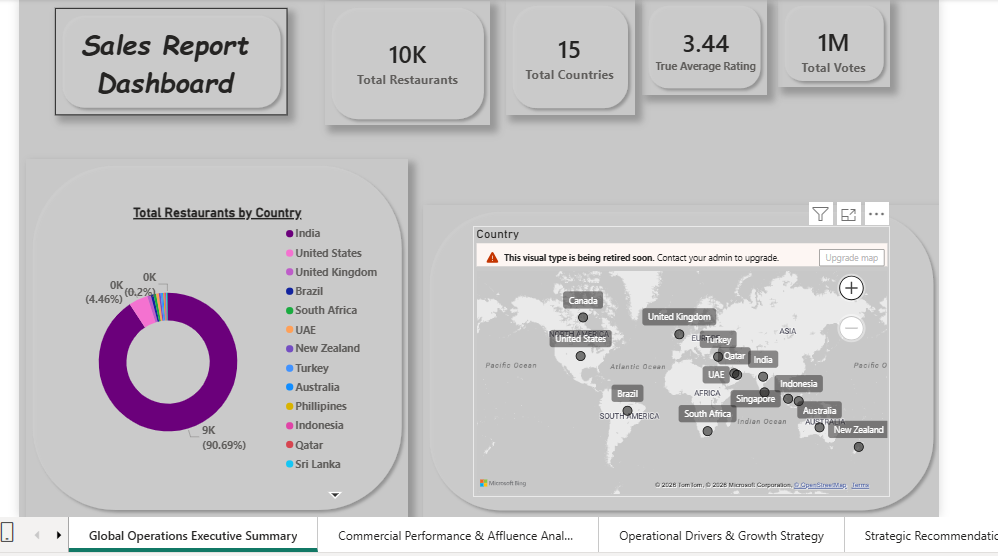

What the dashboard file says about the page in this screenshot:
{"tool":"powerbi","page":{"name":"Global Operations Executive Summary","canvas":[1280,720],"ordinal":0},"visuals":[{"type":"shape","box":[425.3,2.8,229.8,173.4],"z":0},{"type":"shape","box":[676.9,0,178.7,161],"z":1},{"type":"shape","box":[865.8,0,173.7,133.1],"z":2},{"type":"shape","box":[1054.6,0,155.9,123],"z":3},{"type":"shape","box":[49.5,12.4,323.4,148.6],"z":4},{"type":"textbox","box":[0,31.7,404.6,129.4],"z":5},{"type":"cardVisual","fields":{"Data":["all measure.Total Restaurants"]},"box":[440.4,16.5,199.6,140.4],"z":6},{"type":"cardVisual","fields":{"Data":["all measure.Total Countries"]},"box":[666.2,9.6,199.6,140.4],"z":7},{"type":"cardVisual","fields":{"Data":["Clean Zamoto Data.True Average Rating"]},"box":[854.7,0,199.6,140.4],"z":8},{"type":"cardVisual","fields":{"Data":["all measure.Total Votes"]},"box":[1032.3,0,199.6,140.4],"z":9},{"type":"shape","box":[9.6,223,531.3,496.9],"z":10},{"type":"donutChart","fields":{"Category":["Clean Zamoto Data.Country"],"Y":["all measure.Total Restaurants"]},"box":[38.5,286.3,473.5,415.7],"z":11},{"type":"shape","box":[561.5,286.3,718.5,433.5],"z":12},{"type":"map","fields":{"Category":["Clean Zamoto Data.Country"]},"box":[630.4,315.2,580.8,377.1],"z":13}]}

Visuals, with their boxes on the page's 1280x720 design canvas (x1, y1, x2, y2). These are canvas units, not pixel positions in the 998x556 screenshot, which may show the page scaled, cropped or inside an application window:
shape: [x1=425, y1=3, x2=655, y2=176]
shape: [x1=677, y1=0, x2=856, y2=161]
shape: [x1=866, y1=0, x2=1040, y2=133]
shape: [x1=1055, y1=0, x2=1210, y2=123]
shape: [x1=50, y1=12, x2=373, y2=161]
textbox: [x1=0, y1=32, x2=405, y2=161]
cardVisual - all measure.Total Restaurants: [x1=440, y1=16, x2=640, y2=157]
cardVisual - all measure.Total Countries: [x1=666, y1=10, x2=866, y2=150]
cardVisual - Clean Zamoto Data.True Average Rating: [x1=855, y1=0, x2=1054, y2=140]
cardVisual - all measure.Total Votes: [x1=1032, y1=0, x2=1232, y2=140]
shape: [x1=10, y1=223, x2=541, y2=720]
donutChart - Clean Zamoto Data.Country x all measure.Total Restaurants: [x1=38, y1=286, x2=512, y2=702]
shape: [x1=562, y1=286, x2=1280, y2=720]
map - Clean Zamoto Data.Country: [x1=630, y1=315, x2=1211, y2=692]
